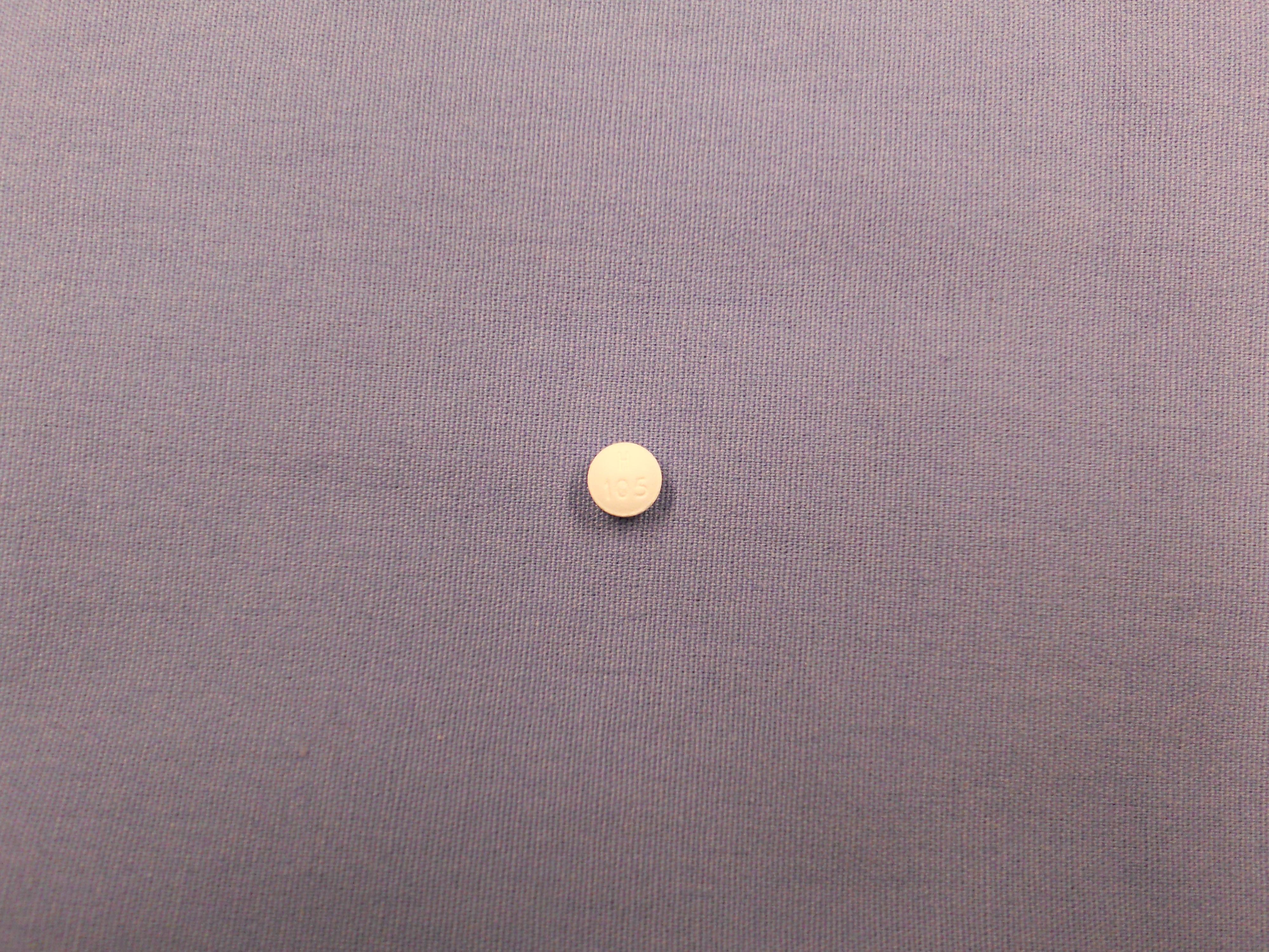Pill: (582, 436, 671, 524)
